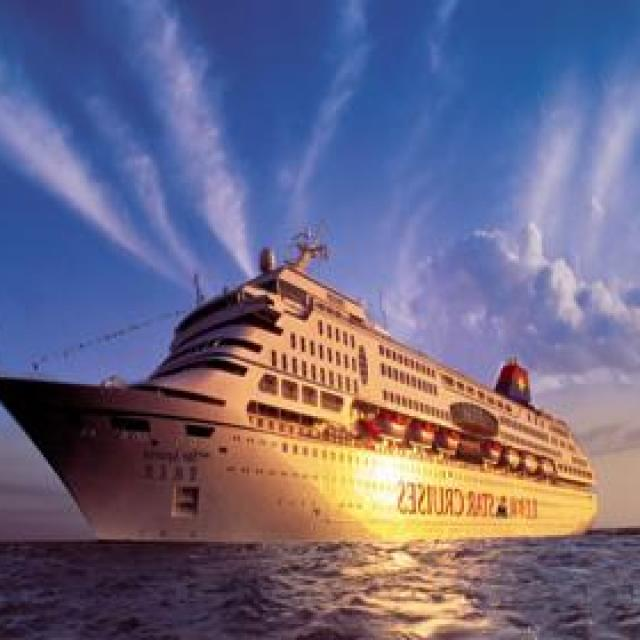passenger ship: (0, 215, 606, 560)
